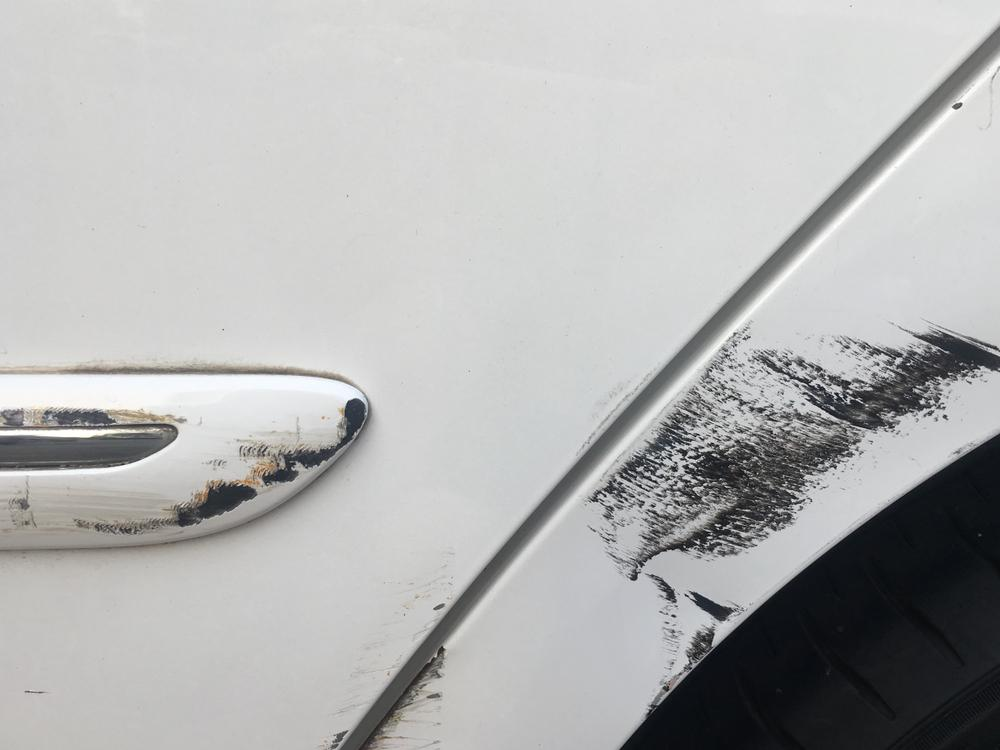scratch: (585, 321, 1000, 710), (0, 392, 363, 537), (318, 550, 455, 750), (363, 646, 452, 750), (0, 405, 183, 427)
